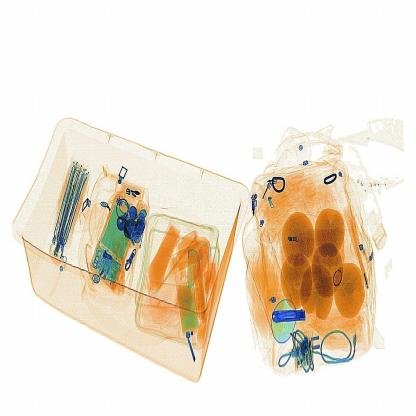knife: (265, 298, 320, 324)
